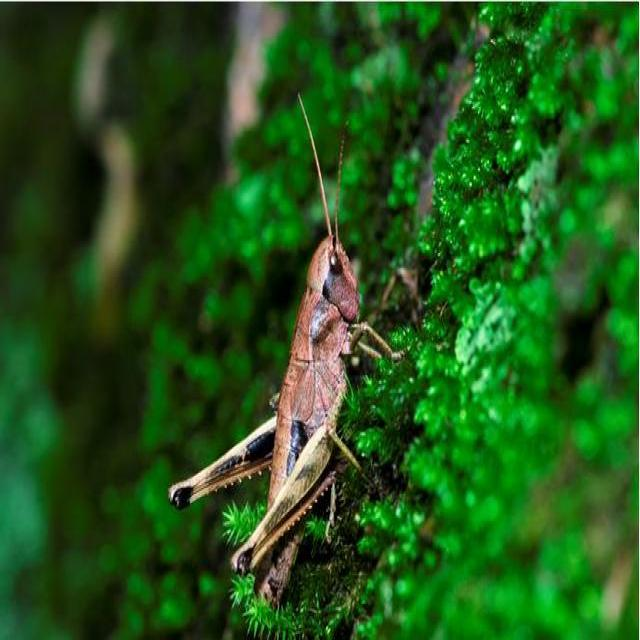ZhaMeng: (156, 234, 390, 589)
